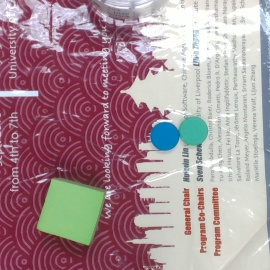blue: (150, 122, 180, 152)
green: (179, 115, 208, 146)
